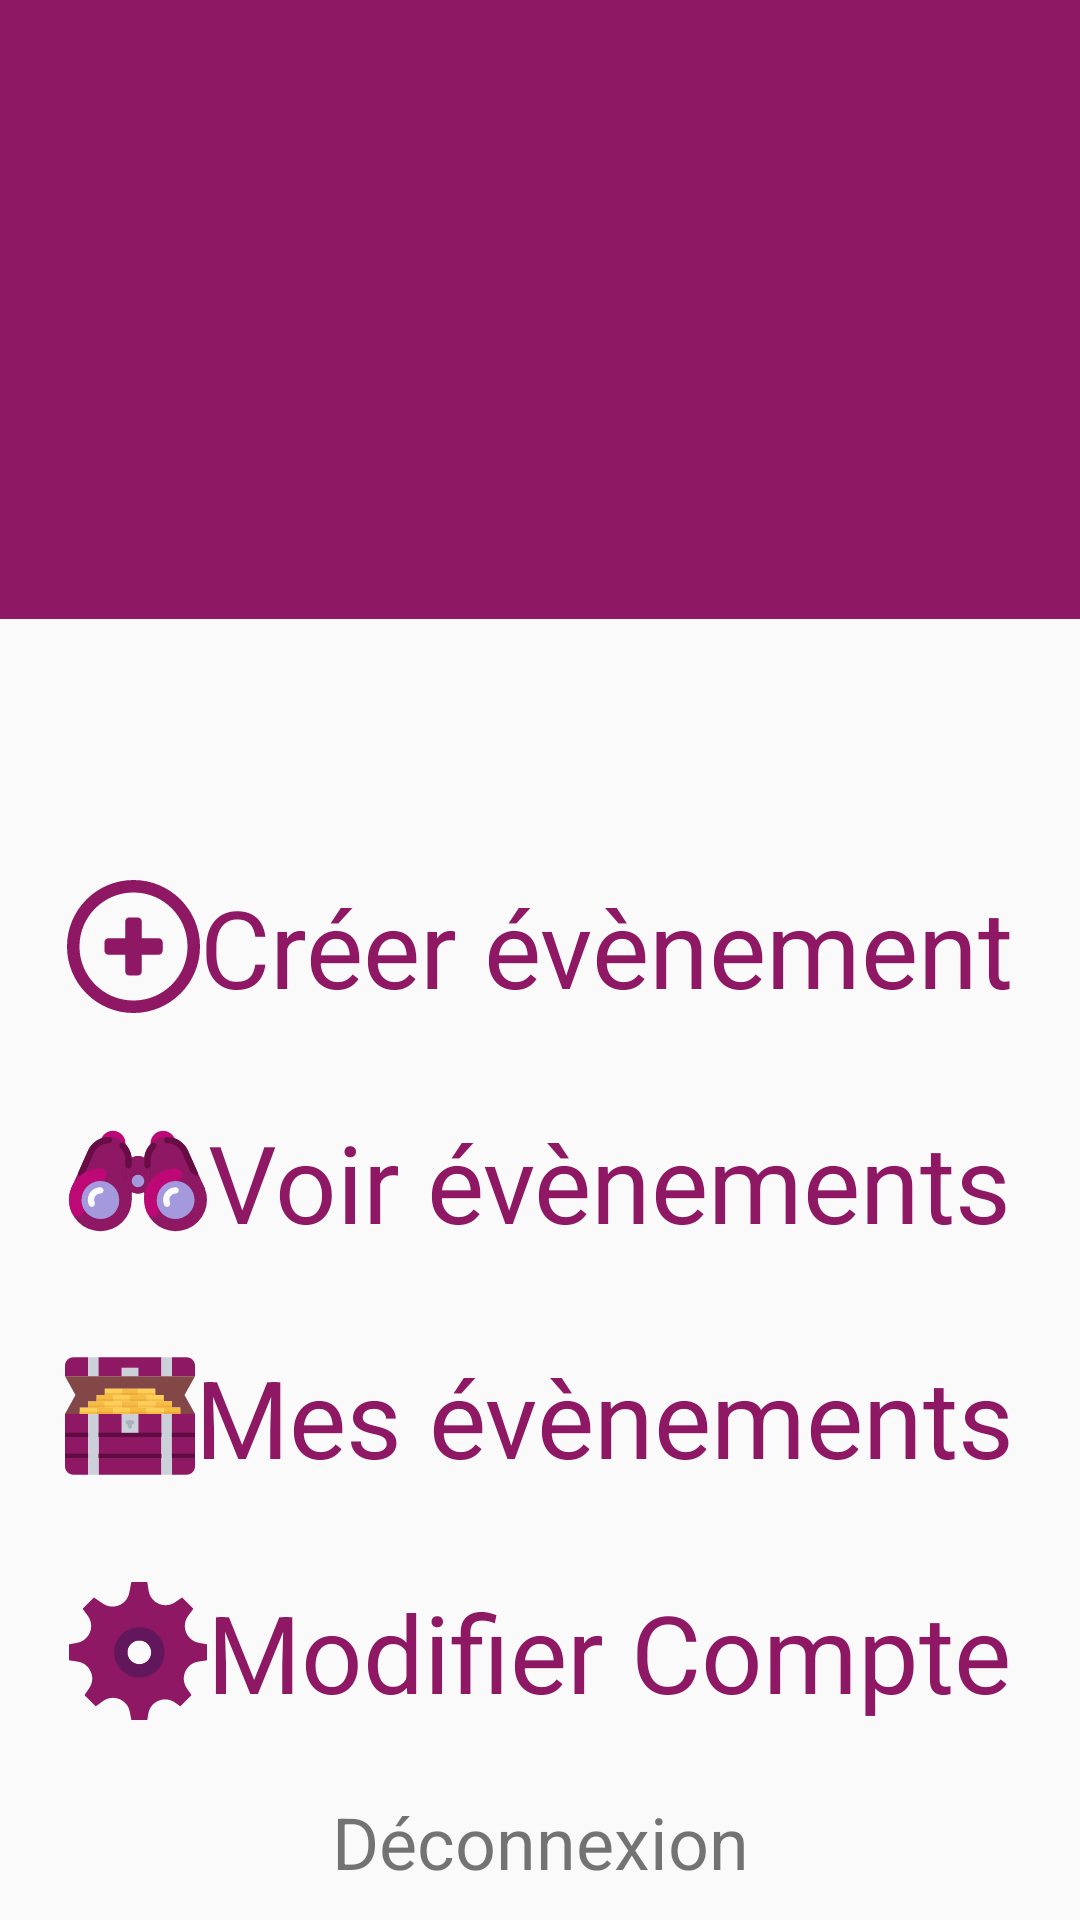

Icon click points for this 1080w x 1920h phone screenshot, format (x=x, y=y):
binoculars: (x=138, y=1181)
plus: (x=133, y=946)
settings: (x=138, y=1651)
treasure: (x=130, y=1416)
